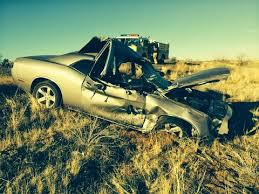doorouter-dent: (99, 89, 152, 129)
fender-dent: (153, 101, 205, 124)
